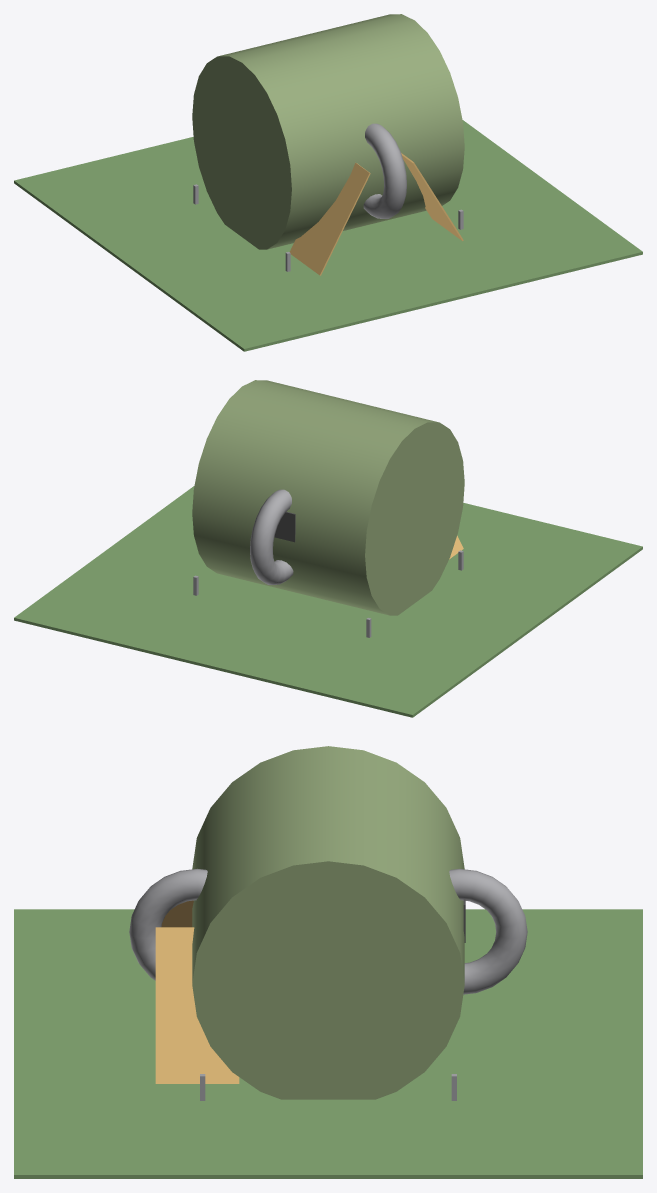
Rendered from camping_tent.glb.
3 renders of one model, top to bottom at view 1: azimuth 30°, elevation 25°; view 2: azimuth 150°, elevation 25°; view 3: azimuth 270°, elevation 25°, orthographic. The views are drawn at different scales.
Visible parts, largest first — view 1: ground, rain_fly, door_flap_l, pole_front, door_flap_r; view 2: ground, rain_fly, pole_back, mesh; view 3: ground, rain_fly, door_flap_r, pole_back, pole_front, door_flap_l.
Boxes of the visible parts, x1=… form: ground: x1=14, y1=120, x2=642, y2=351; rain_fly: x1=192, y1=14, x2=464, y2=249; door_flap_l: x1=290, y1=162, x2=370, y2=275; pole_front: x1=363, y1=123, x2=406, y2=218; door_flap_r: x1=401, y1=153, x2=463, y2=241; ground: x1=14, y1=486, x2=642, y2=717; rain_fly: x1=192, y1=380, x2=464, y2=615; pole_back: x1=250, y1=489, x2=293, y2=584; mesh: x1=274, y1=511, x2=295, y2=542; ground: x1=14, y1=909, x2=642, y2=1178; rain_fly: x1=192, y1=746, x2=464, y2=1099; door_flap_r: x1=155, y1=927, x2=239, y2=1083; pole_back: x1=449, y1=868, x2=527, y2=994; pole_front: x1=129, y1=868, x2=207, y2=980; door_flap_l: x1=161, y1=900, x2=193, y2=927.
Size of the model in its own units: 6 by 2.6 by 6.
